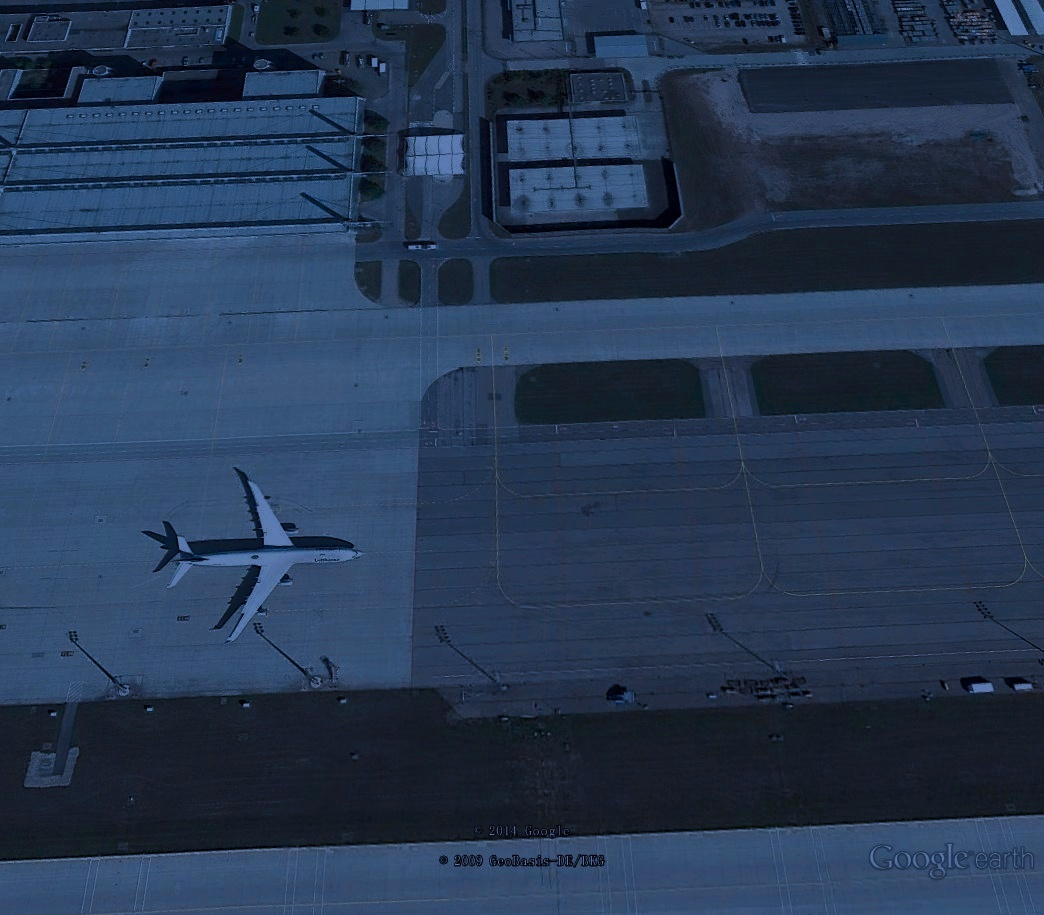aircraft: (160, 469, 369, 651)
